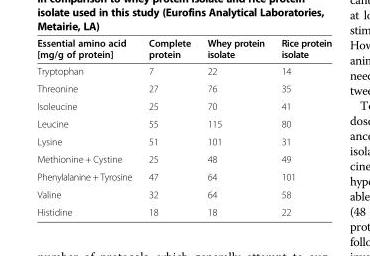table: (36, 36, 331, 217)
table column: (36, 36, 139, 217), (198, 36, 272, 217), (139, 36, 198, 217), (272, 36, 331, 217)
table column header: (36, 36, 331, 62)
table row: (36, 36, 331, 62), (36, 79, 331, 97), (36, 114, 331, 132), (36, 149, 331, 167), (36, 167, 331, 185), (36, 62, 331, 79), (36, 97, 331, 114), (36, 132, 331, 149), (36, 185, 331, 202), (36, 202, 331, 217)
